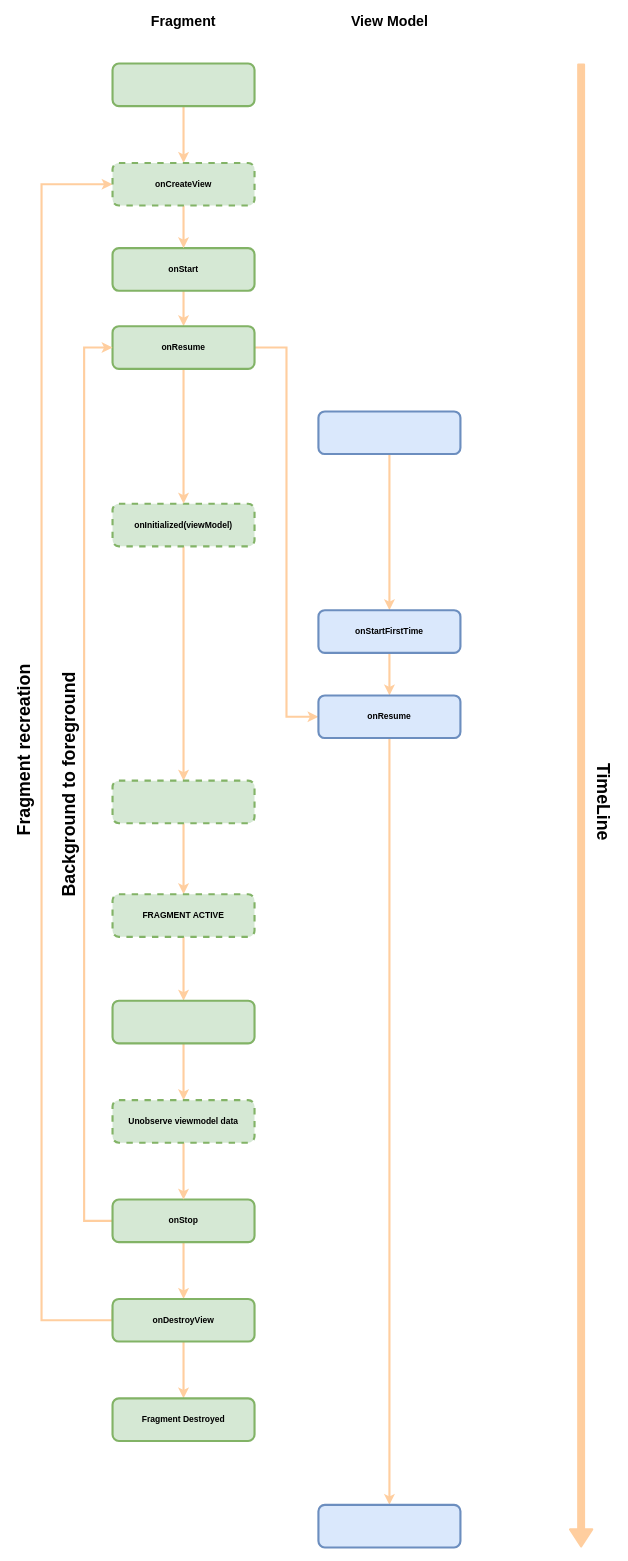
This 628x1561 diagram has some shape labels left out. The shapes that lost their labels are listed below. From the top down, each one's centre as x and y in pixels, then its label:
the point at 183,84: Fragment Instantiation
the point at 389,432: ViewModel Instantiation
the point at 183,801: Observe viewmodel data
the point at 183,1021: onPause
the point at 389,1525: onCleared
